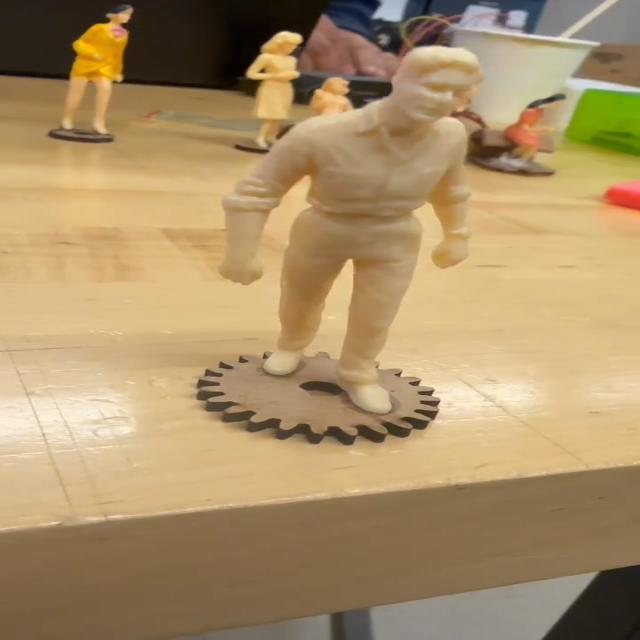Unauthorized: (183, 29, 506, 430)
